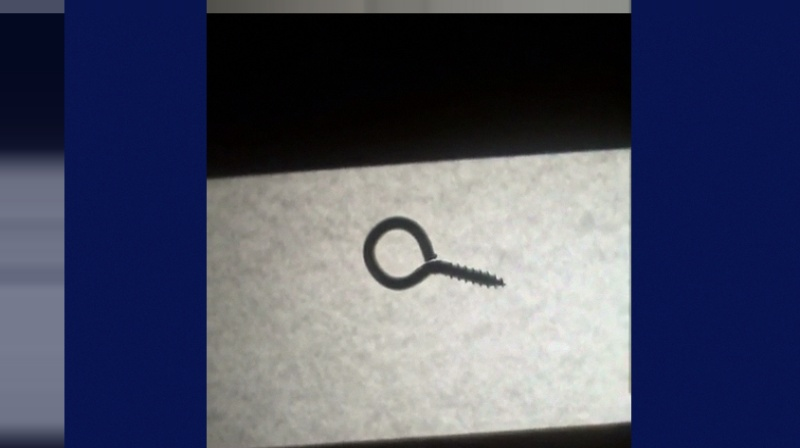O001: (362, 210, 508, 294)
